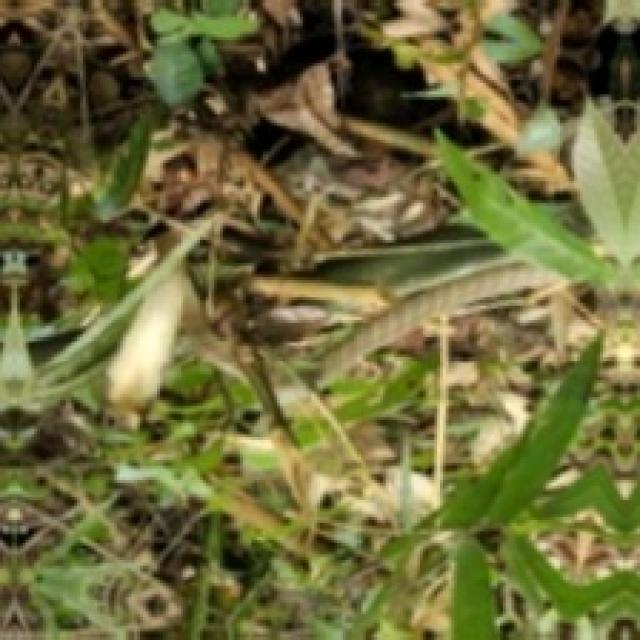king cobra: (319, 261, 551, 381), (108, 270, 246, 404)
